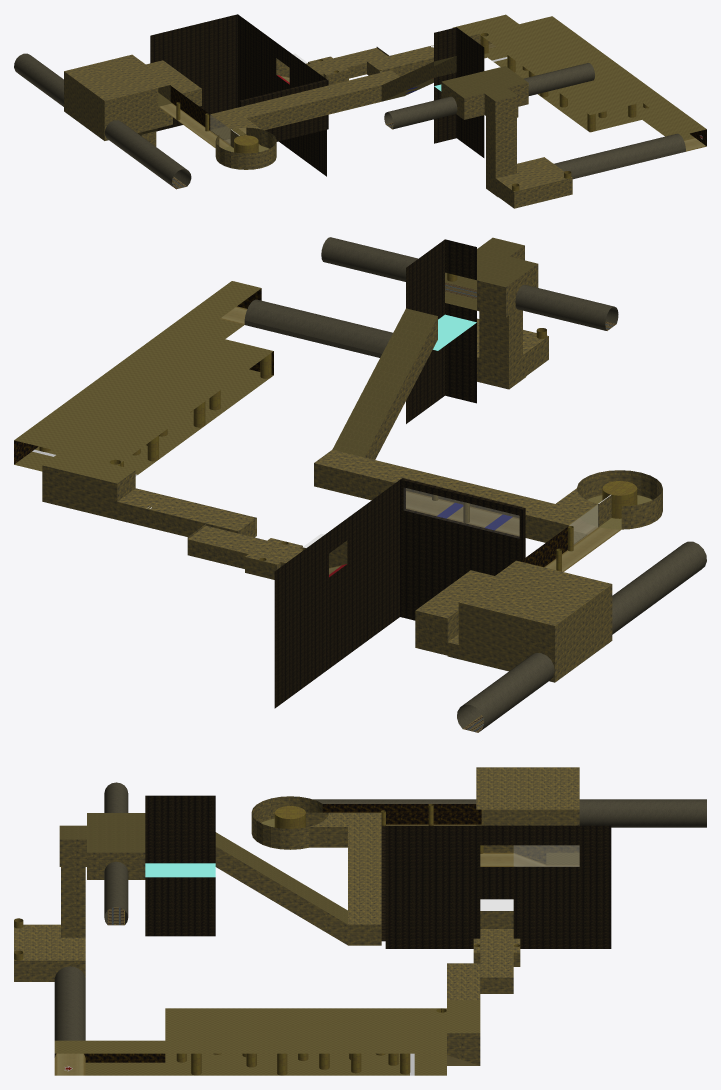
The model's file is Course_model.obj.
3 views of the same model, one above another, from view 1: azimuth 30°, elevation 25°; view 2: azimuth 150°, elevation 25°; view 3: azimuth 270°, elevation 25° (orthographic). The views are drawn at different scales.
Parts seen in each view (by area): view 1: TRACK-SKP--Wall_sandstonev2, TRACK-SKP--Wall_rockgara1, TRACK-SKP--Road_floorchecker, TRACK-SKP--Wall_tunnel, TRACK-SKP--Road_floorcheckerbr, TRACK-SKP--Road_sandpath, TRACK-SKP--Wall_darksandstone, TRACK-SKP--Wall_column, TRACK-SKP--Wall_glass; view 2: TRACK-SKP--Wall_sandstonev2, TRACK-SKP--Wall_rockgara1, TRACK-SKP--Road_floorchecker, TRACK-SKP--Wall_tunnel, TRACK-SKP--Road_floorcheckerbr, TRACK-SKP--Road_sandpath, TRACK-SKP--Wall_glass, TRACK-SKP--Wall_darksandstone, TRACK-SKP--Wall_column, TRACK-SKP--FallBoundary; view 3: TRACK-SKP--Wall_rockgara1, TRACK-SKP--Wall_sandstonev2, TRACK-SKP--Road_floorchecker, TRACK-SKP--Wall_tunnel, TRACK-SKP--Road_floorcheckerbr, TRACK-SKP--Wall_darksandstone, TRACK-SKP--Road_sandpath, TRACK-SKP--Wall_glass, TRACK-SKP--FallBoundary, TRACK-SKP--Wall_column.
Part boxes in pixels (left/top/right/bottom): TRACK-SKP--Wall_sandstonev2: left=64, top=34, right=572, bottom=208; TRACK-SKP--Wall_rockgara1: left=150, top=14, right=484, bottom=176; TRACK-SKP--Road_floorchecker: left=210, top=14, right=706, bottom=140; TRACK-SKP--Wall_tunnel: left=14, top=53, right=685, bottom=188; TRACK-SKP--Road_floorcheckerbr: left=142, top=56, right=528, bottom=134; TRACK-SKP--Road_sandpath: left=159, top=44, right=706, bottom=188; TRACK-SKP--Wall_darksandstone: left=170, top=86, right=706, bottom=146; TRACK-SKP--Wall_column: left=234, top=59, right=338, bottom=153; TRACK-SKP--Wall_glass: left=210, top=115, right=230, bottom=144; TRACK-SKP--Wall_sandstonev2: left=42, top=245, right=662, bottom=682; TRACK-SKP--Wall_rockgara1: left=274, top=239, right=525, bottom=708; TRACK-SKP--Road_floorchecker: left=14, top=281, right=587, bottom=544; TRACK-SKP--Wall_tunnel: left=244, top=237, right=706, bottom=731; TRACK-SKP--Road_floorcheckerbr: left=332, top=237, right=537, bottom=457; TRACK-SKP--Road_sandpath: left=220, top=306, right=620, bottom=732; TRACK-SKP--Wall_glass: left=404, top=488, right=597, bottom=544; TRACK-SKP--Wall_darksandstone: left=14, top=288, right=568, bottom=567; TRACK-SKP--Wall_column: left=259, top=481, right=637, bottom=560; TRACK-SKP--FallBoundary: left=433, top=314, right=476, bottom=350; TRACK-SKP--Wall_rockgara1: left=145, top=795, right=611, bottom=948; TRACK-SKP--Wall_sandstonev2: left=14, top=767, right=579, bottom=1065; TRACK-SKP--Road_floorchecker: left=54, top=852, right=579, bottom=1075; TRACK-SKP--Wall_tunnel: left=54, top=782, right=706, bottom=1040; TRACK-SKP--Road_floorcheckerbr: left=59, top=813, right=481, bottom=924; TRACK-SKP--Wall_darksandstone: left=54, top=804, right=481, bottom=1062; TRACK-SKP--Road_sandpath: left=54, top=824, right=579, bottom=1075; TRACK-SKP--Wall_glass: left=514, top=845, right=579, bottom=866; TRACK-SKP--FallBoundary: left=145, top=863, right=215, bottom=877; TRACK-SKP--Wall_column: left=274, top=806, right=520, bottom=946.
Bounding box in the file's own units: 47701 × 19152 × 51750.
